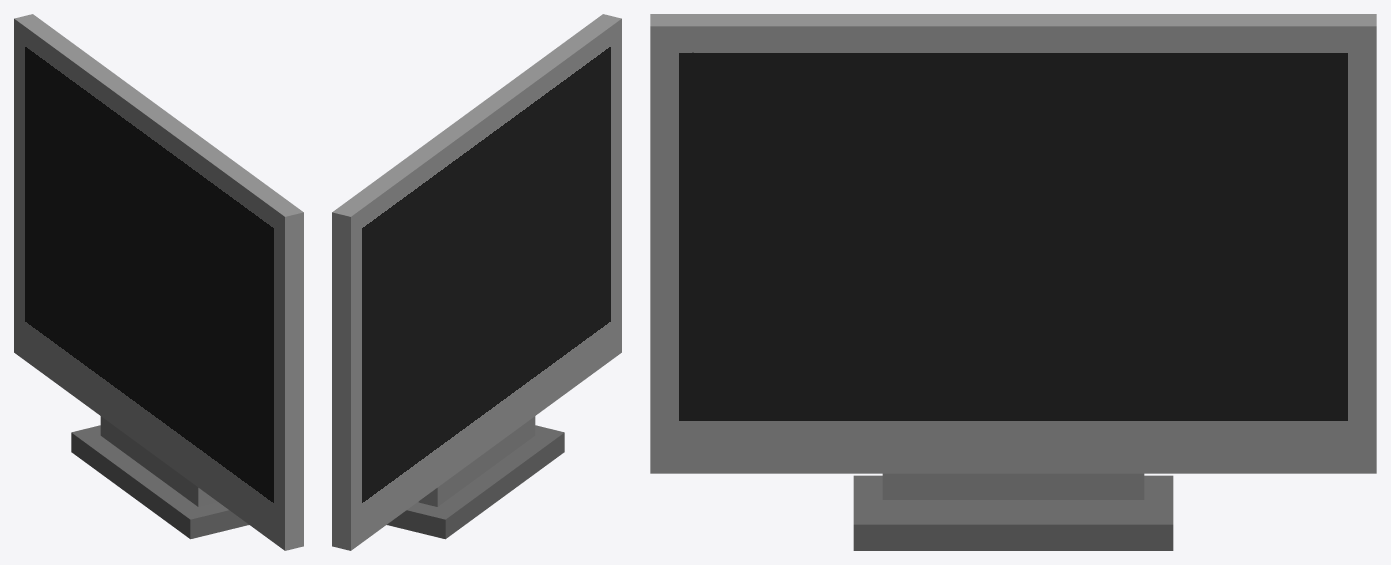
The model's file is computer_screen.fbx.
3 views of the same model, side by side, from view 1: azimuth 30°, elevation 25°; view 2: azimuth 150°, elevation 25°; view 3: azimuth 270°, elevation 25° (orthographic). The views are drawn at different scales.
Parts seen in each view (by area): view 1: computer_screen; view 2: computer_screen; view 3: computer_screen.
Part boxes in pixels (x1,y1,x2,y2): computer_screen: (14, 14, 303, 550); computer_screen: (332, 14, 621, 550); computer_screen: (650, 14, 1376, 550).
Bounding box in the file's own units: 4 × 19 × 25.
